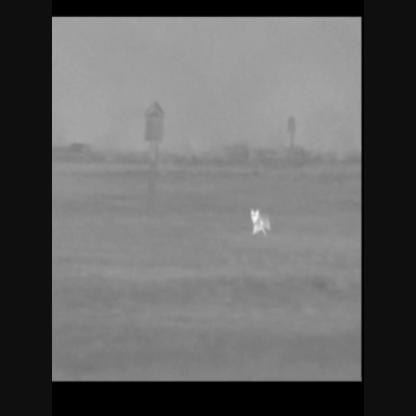rehkitze: (247, 208, 271, 239)
